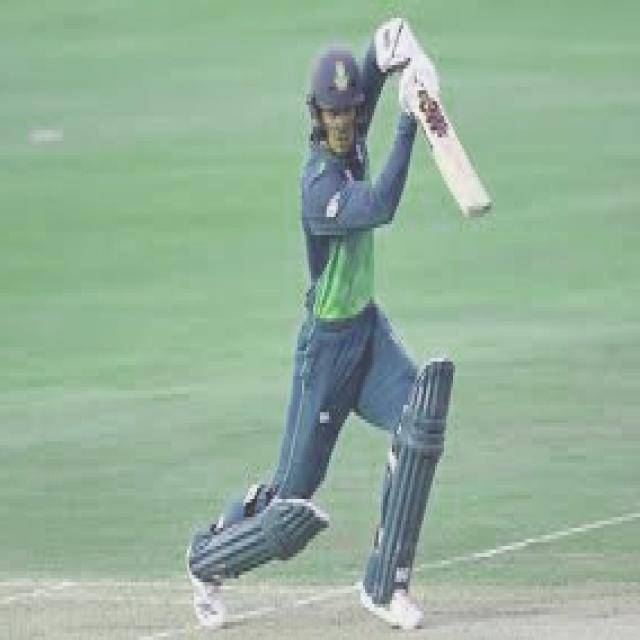bat: (415, 83, 499, 221)
toe: (465, 200, 495, 218)
